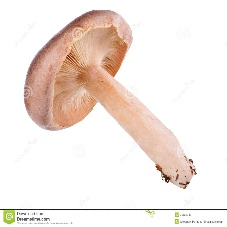mushroom: (22, 8, 200, 193)
